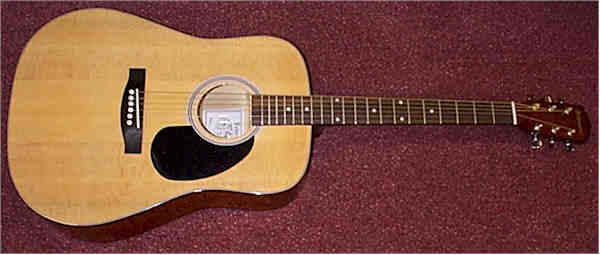guitar: (6, 6, 592, 243)
